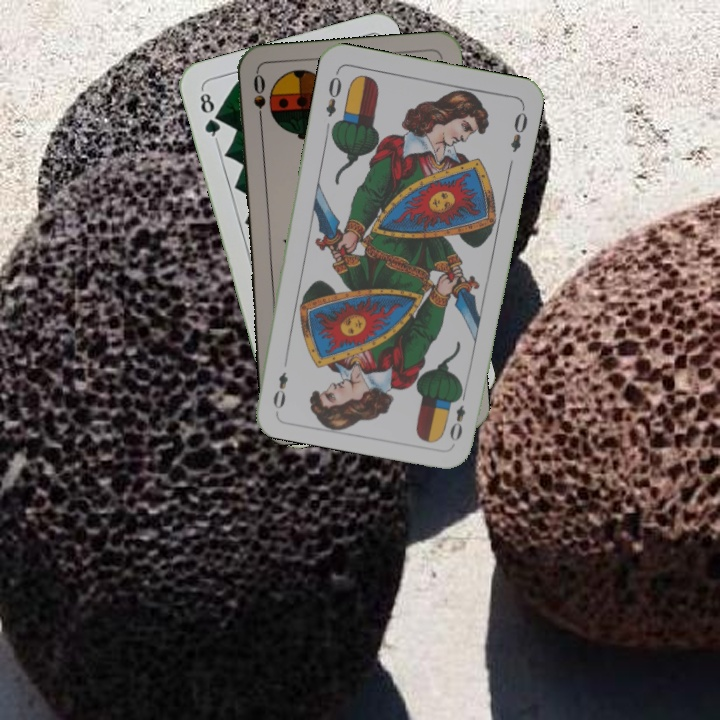EO: (445, 386, 469, 444), (321, 67, 344, 119)
G8: (195, 86, 223, 144)
SO: (249, 70, 269, 129)
